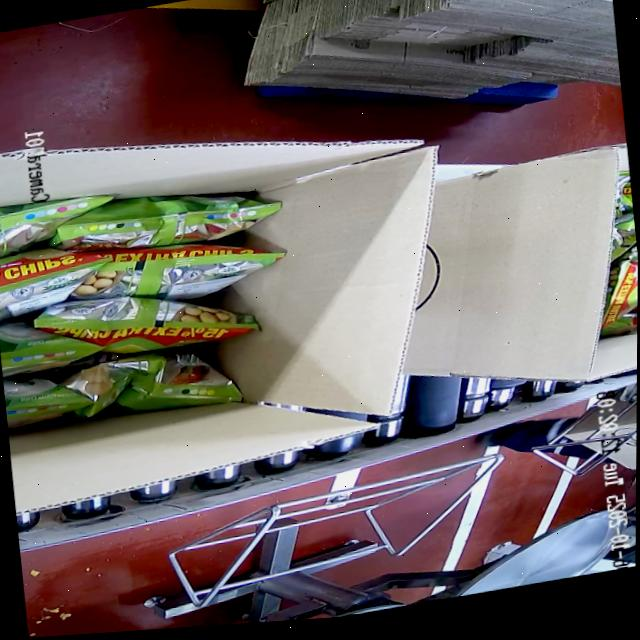YOGURT_HERB: (0, 160, 295, 445)
